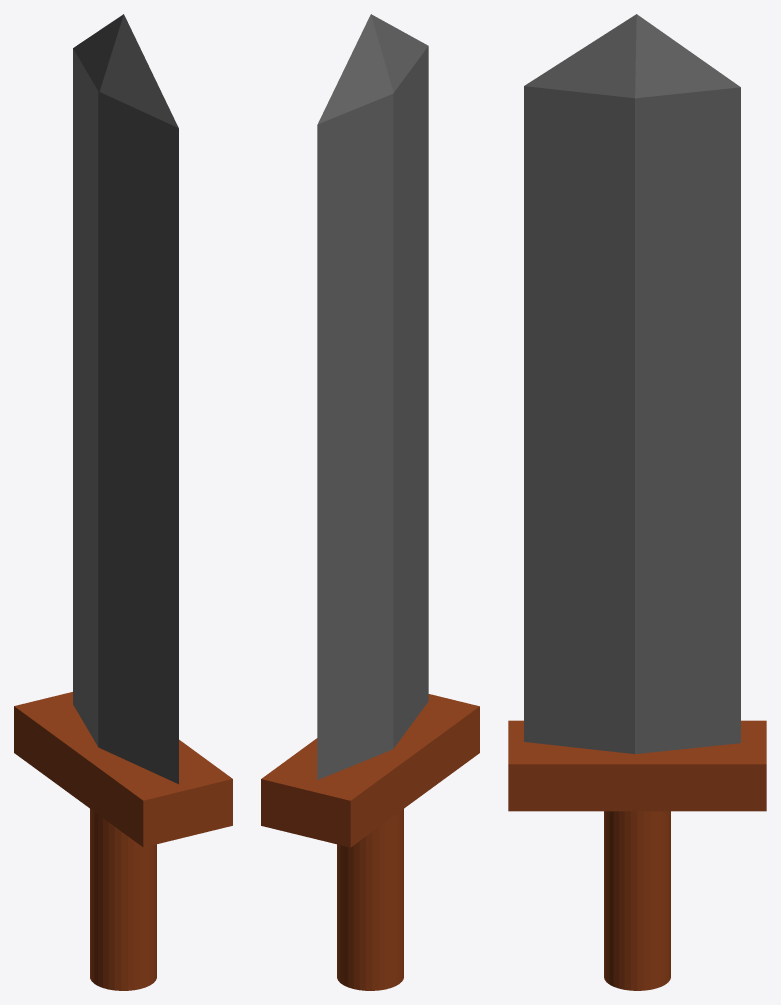
File: Sword.fbx
3 renders of one model, left to right at view 1: azimuth 30°, elevation 25°; view 2: azimuth 150°, elevation 25°; view 3: azimuth 270°, elevation 25°, orthographic.
Visible parts, largest first — view 1: Blade, Guard, Handle; view 2: Blade, Guard, Handle; view 3: Blade, Guard, Handle.
Boxes of the visible parts, <box> form: Blade: <box>73,14,178,784</box>; Guard: <box>14,692,232,847</box>; Handle: <box>90,809,156,990</box>; Blade: <box>317,14,428,779</box>; Guard: <box>261,694,479,847</box>; Handle: <box>337,809,403,990</box>; Blade: <box>524,14,740,754</box>; Guard: <box>508,720,766,811</box>; Handle: <box>604,811,670,990</box>.
Bounding box in the file's own units: 40 × 411 × 100.
